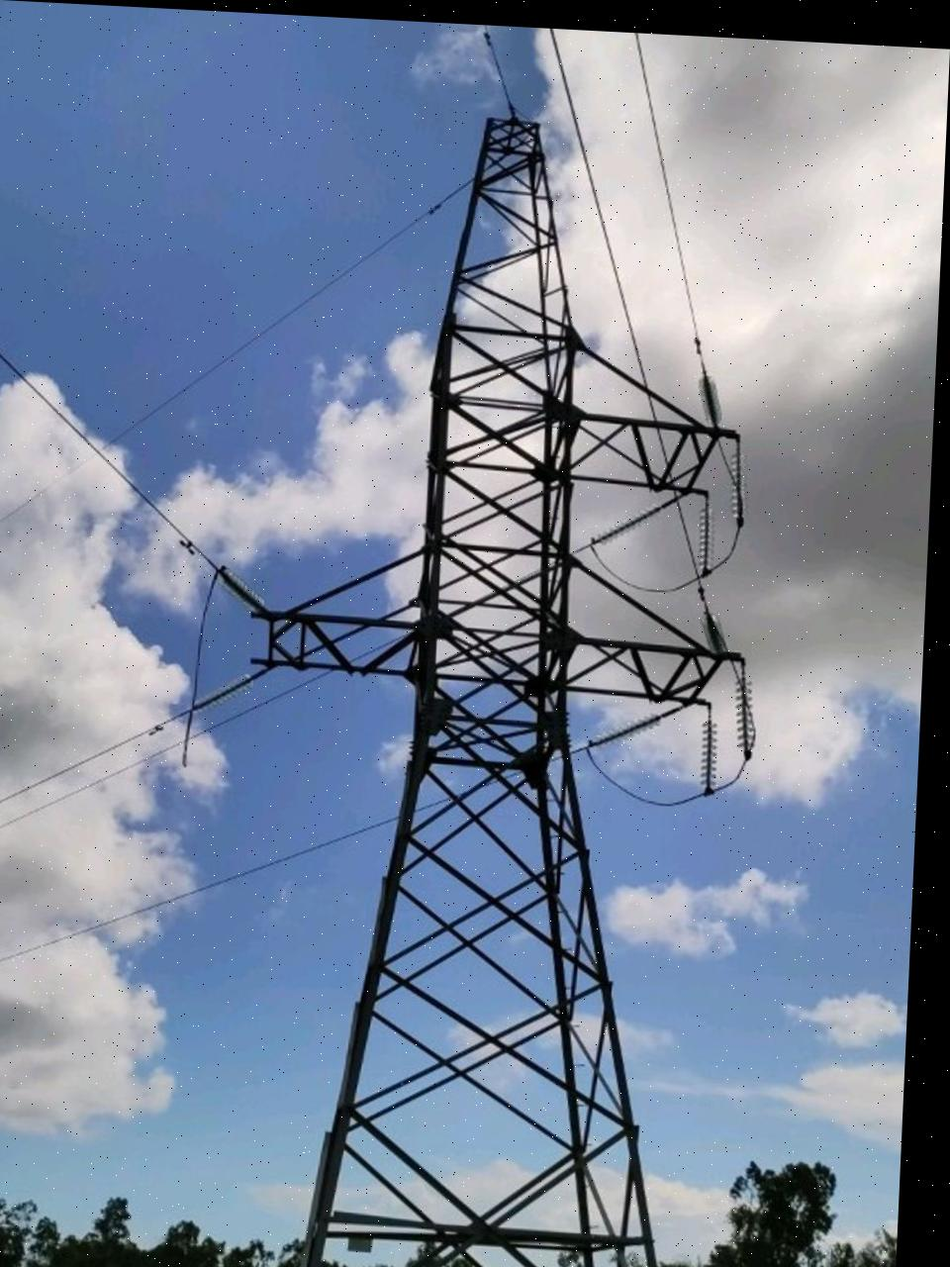tower: (217, 89, 793, 1267)
